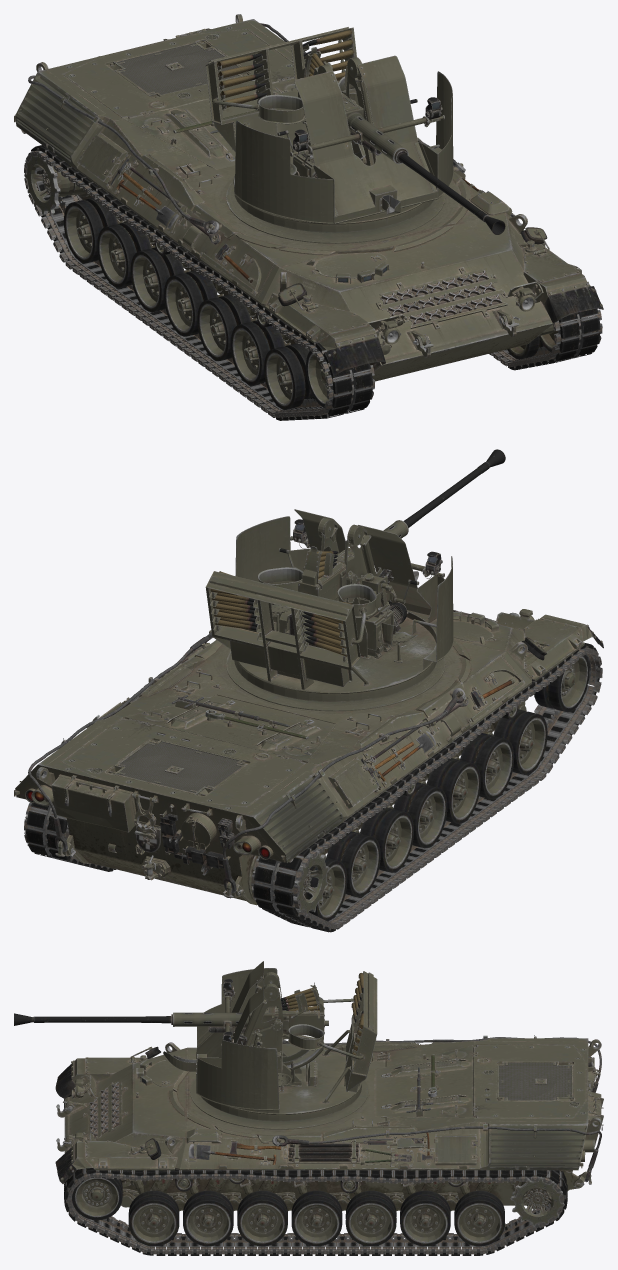
The model's file is Leopard_40_70.obj.
3 renders of one model, top to bottom at view 1: azimuth 30°, elevation 25°; view 2: azimuth 150°, elevation 25°; view 3: azimuth 270°, elevation 25°, orthographic. The views are drawn at different scales.
Parts seen in each view (by area): view 1: vehicle#x_root_94, vehicle#turret_0, vehicle#track_r_90, vehicle#hatch_05_53, vehicle#ex_decor_r_02_51, vehicle#ex_armor_body_01_47, vehicle#hatch_04_57, vehicle#ex_decor_l_02_52, vehicle#bone_gun_1, vehicle#track_l_91, vehicle#wheel_r_01_81, vehicle#wheel_r_03_80 (+14 smaller); view 2: vehicle#x_root_94, vehicle#turret_0, vehicle#track_r_90, vehicle#hatch_05_53, vehicle#hatch_04_57, vehicle#ex_decor_03_60, vehicle#ex_decor_r_02_51, vehicle#bone_gun_1, vehicle#wheel_r_02_82, vehicle#wheel_r_03_80, vehicle#wheel_r_06_77, vehicle#wheel_r_05_76 (+14 smaller); view 3: vehicle#x_root_94, vehicle#turret_0, vehicle#track_l_91, vehicle#hatch_05_53, vehicle#hatch_04_57, vehicle#bone_gun_1, vehicle#ex_decor_l_02_52, vehicle#wheel_l_05_87, vehicle#wheel_l_04_93, vehicle#wheel_l_01_79, vehicle#wheel_l_06_86, vehicle#wheel_l_03_92 (+15 smaller).
Boxes of the visible parts, x1,y1,x2,y2 form: vehicle#x_root_94: [14, 14, 554, 381]; vehicle#turret_0: [205, 27, 453, 232]; vehicle#track_r_90: [24, 145, 374, 420]; vehicle#hatch_05_53: [62, 29, 294, 118]; vehicle#ex_decor_r_02_51: [264, 283, 385, 374]; vehicle#ex_armor_body_01_47: [376, 267, 507, 329]; vehicle#hatch_04_57: [125, 78, 295, 169]; vehicle#ex_decor_l_02_52: [521, 227, 603, 323]; vehicle#bone_gun_1: [290, 47, 444, 164]; vehicle#track_l_91: [489, 309, 602, 370]; vehicle#wheel_r_01_81: [264, 343, 314, 409]; vehicle#wheel_r_03_80: [197, 294, 251, 360]; vehicle#x_root_94: [14, 612, 538, 905]; vehicle#turret_0: [205, 509, 453, 701]; vehicle#track_r_90: [251, 643, 602, 932]; vehicle#hatch_05_53: [63, 718, 305, 806]; vehicle#hatch_04_57: [125, 695, 335, 762]; vehicle#ex_decor_03_60: [51, 774, 136, 832]; vehicle#ex_decor_r_02_51: [522, 614, 603, 681]; vehicle#bone_gun_1: [290, 520, 444, 620]; vehicle#wheel_r_02_82: [460, 733, 514, 799]; vehicle#wheel_r_03_80: [426, 758, 480, 823]; vehicle#wheel_r_06_77: [326, 831, 380, 897]; vehicle#wheel_r_05_76: [359, 807, 413, 872]; vehicle#x_root_94: [64, 1035, 601, 1205]; vehicle#turret_0: [163, 961, 377, 1121]; vehicle#track_l_91: [64, 1168, 567, 1255]; vehicle#hatch_05_53: [473, 1045, 585, 1117]; vehicle#hatch_04_57: [375, 1045, 475, 1117]; vehicle#bone_gun_1: [173, 982, 328, 1063]; vehicle#ex_decor_l_02_52: [55, 1138, 177, 1183]; vehicle#wheel_l_05_87: [345, 1190, 396, 1246]; vehicle#wheel_l_04_93: [291, 1190, 342, 1246]; vehicle#wheel_l_01_79: [128, 1190, 179, 1246]; vehicle#wheel_l_06_86: [400, 1190, 450, 1246]; vehicle#wheel_l_03_92: [237, 1190, 287, 1246].
Bounding box in the file's own units: 3.32 × 3.16 × 7.54.
Materials: 10 (10 with a texture image).
